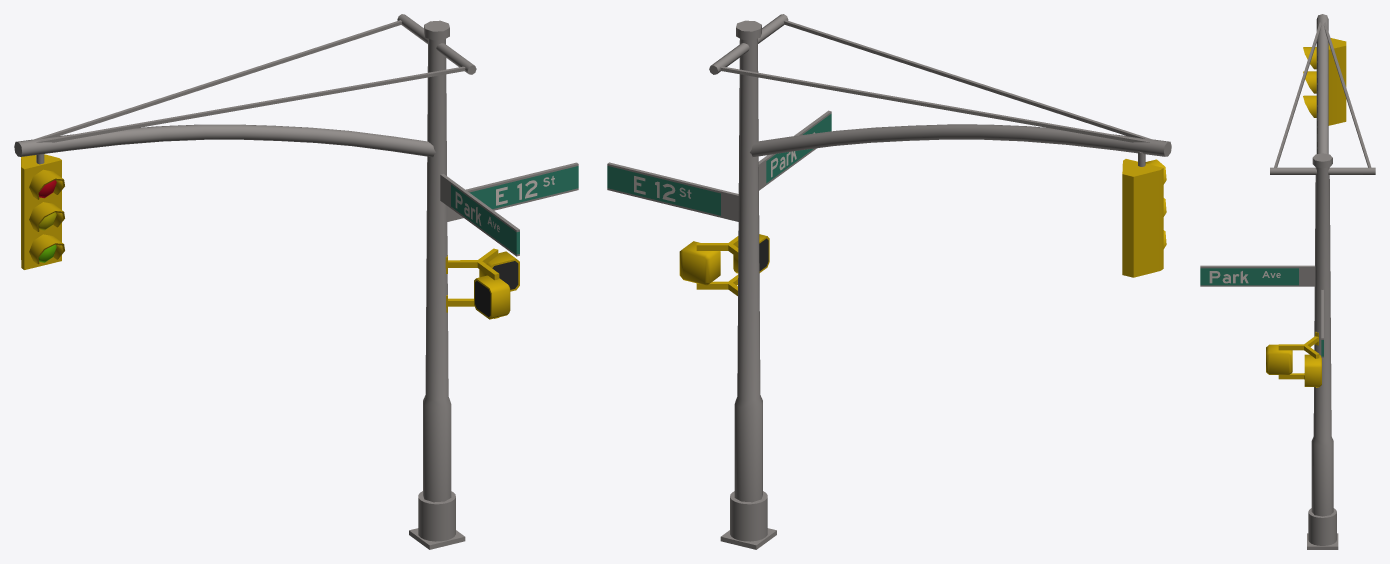
Rendered from traffic-light.glb.
The picture shows the model from 3 angles, left to right: view 1: azimuth 30°, elevation 25°; view 2: azimuth 150°, elevation 25°; view 3: azimuth 270°, elevation 25°; orthographic projection. The views are drawn at different scales.
Parts seen in each view (by area): view 1: TrafficLight_2; view 2: TrafficLight_2; view 3: TrafficLight_2.
Boxes of the visible parts, bbox=[...] form: TrafficLight_2: bbox=[14, 14, 578, 549]; TrafficLight_2: bbox=[607, 14, 1171, 549]; TrafficLight_2: bbox=[1200, 14, 1375, 549].
Size of the model in its own units: 5.34 by 4.66 by 1.92.
Materials: 1 (1 with a texture image).
